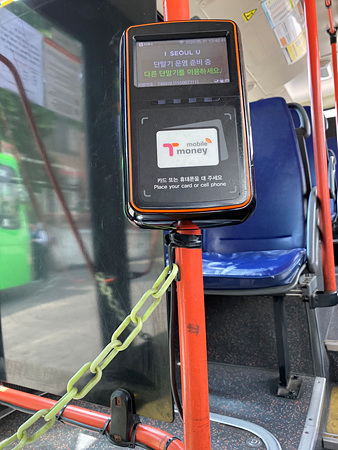terminal: (122, 23, 254, 218)
